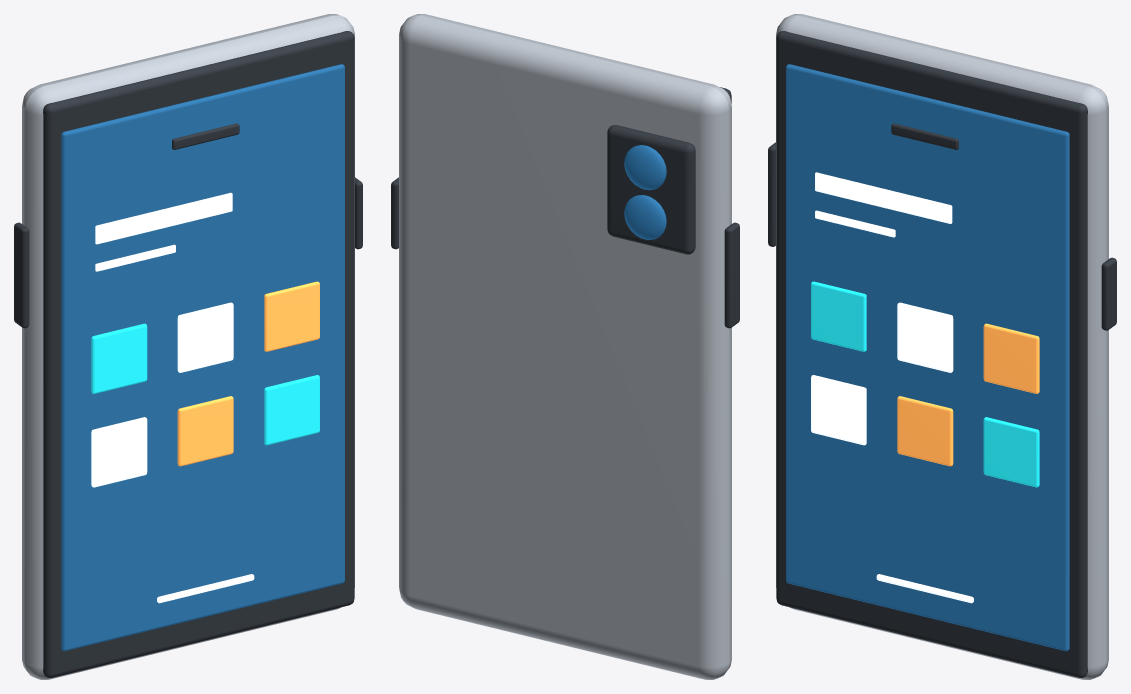
File: phone.glb
The picture shows the model from 3 angles, left to right: view 1: azimuth 30°, elevation 25°; view 2: azimuth 150°, elevation 25°; view 3: azimuth 330°, elevation 25°; orthographic projection.
Parts seen in each view (by area): view 1: PhoneDisplay, PhoneBezel, PhoneFrame, DetailApp_0_0, DetailApp_0_1, DetailApp_1_1, DetailApp_1_0, DetailApp_2_0, DetailApp_2_1, DetailTimeBar, DetailVolumeKey, DetailSpeaker (+3 smaller); view 2: PhoneFrame, DetailCameraBack, DetailVolumeKey, DetailCameraLens.001, DetailCameraLens, DetailPowerKey; view 3: PhoneDisplay, PhoneBezel, PhoneFrame, DetailApp_1_1, DetailApp_2_0, DetailApp_2_1, DetailApp_1_0, DetailApp_0_0, DetailApp_0_1, DetailTimeBar, DetailPowerKey, DetailSpeaker (+3 smaller).
Boxes of the visible parts, bbox=[...] form: PhoneDisplay: bbox=[61, 64, 344, 651]; PhoneBezel: bbox=[43, 31, 354, 677]; PhoneFrame: bbox=[22, 14, 354, 679]; DetailApp_0_0: bbox=[91, 323, 147, 393]; DetailApp_0_1: bbox=[91, 417, 147, 487]; DetailApp_1_1: bbox=[177, 396, 233, 466]; DetailApp_1_0: bbox=[177, 302, 233, 372]; DetailApp_2_0: bbox=[264, 281, 319, 351]; DetailApp_2_1: bbox=[264, 375, 319, 445]; DetailTimeBar: bbox=[95, 192, 232, 244]; DetailVolumeKey: bbox=[14, 222, 29, 328]; DetailSpeaker: bbox=[172, 123, 239, 149]; PhoneFrame: bbox=[399, 14, 731, 679]; DetailCameraBack: bbox=[607, 125, 695, 254]; DetailVolumeKey: bbox=[724, 222, 739, 328]; DetailCameraLens.001: bbox=[624, 145, 666, 190]; DetailCameraLens: bbox=[624, 195, 666, 239]; DetailPowerKey: bbox=[391, 177, 398, 249]; PhoneDisplay: bbox=[786, 64, 1069, 651]; PhoneBezel: bbox=[776, 31, 1087, 677]; PhoneFrame: bbox=[776, 14, 1108, 679]; DetailApp_1_1: bbox=[897, 396, 953, 466]; DetailApp_2_0: bbox=[983, 323, 1039, 393]; DetailApp_2_1: bbox=[983, 417, 1039, 487]; DetailApp_1_0: bbox=[897, 302, 953, 372]; DetailApp_0_0: bbox=[811, 281, 866, 351]; DetailApp_0_1: bbox=[811, 375, 866, 445]; DetailTimeBar: bbox=[815, 172, 952, 223]; DetailPowerKey: bbox=[1101, 257, 1116, 330]; DetailSpeaker: bbox=[891, 123, 958, 149].
Size of the model in its own units: 0.229 by 0.38 by 0.0495.
